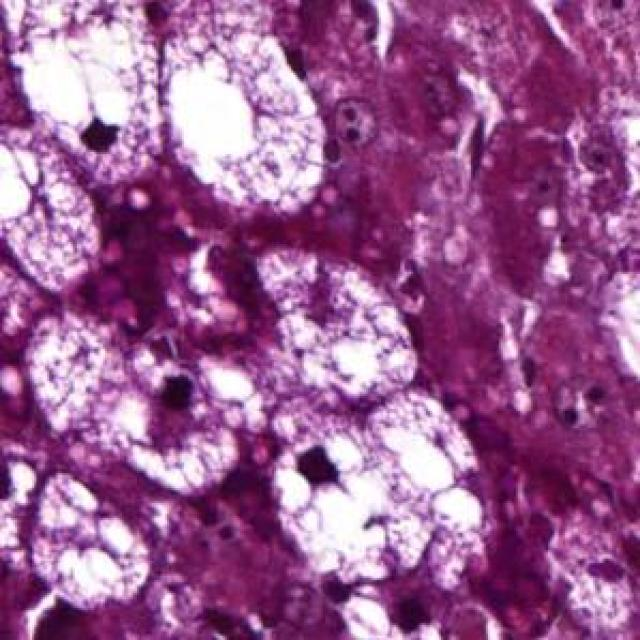ballooning: (22, 304, 250, 503), (156, 12, 336, 222), (268, 398, 437, 591)
